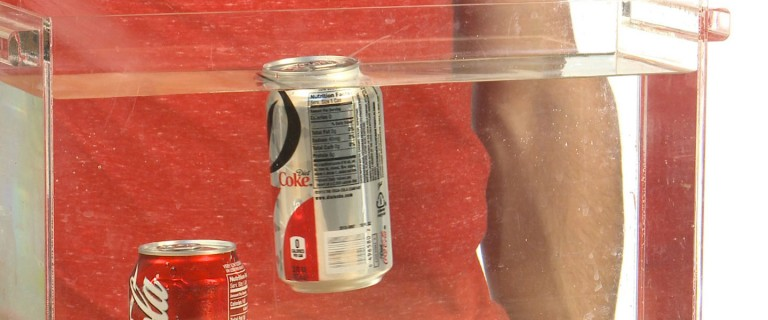can: (263, 50, 396, 296), (124, 235, 247, 320)
